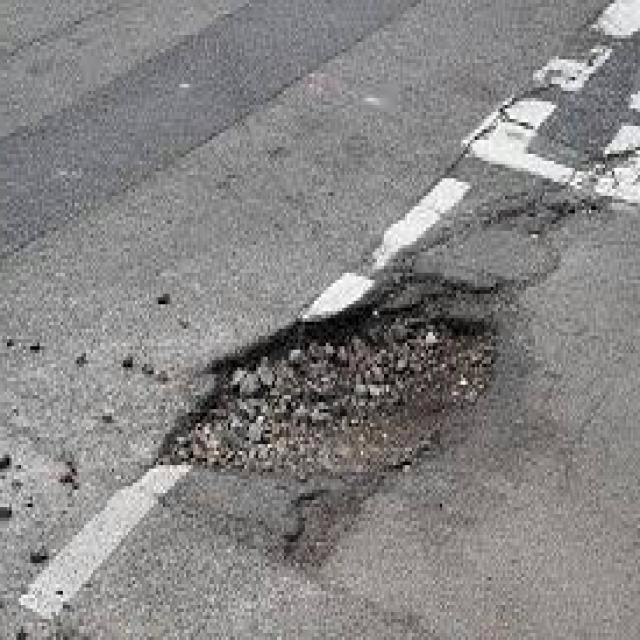pothole: (172, 274, 498, 474), (285, 485, 341, 564)
